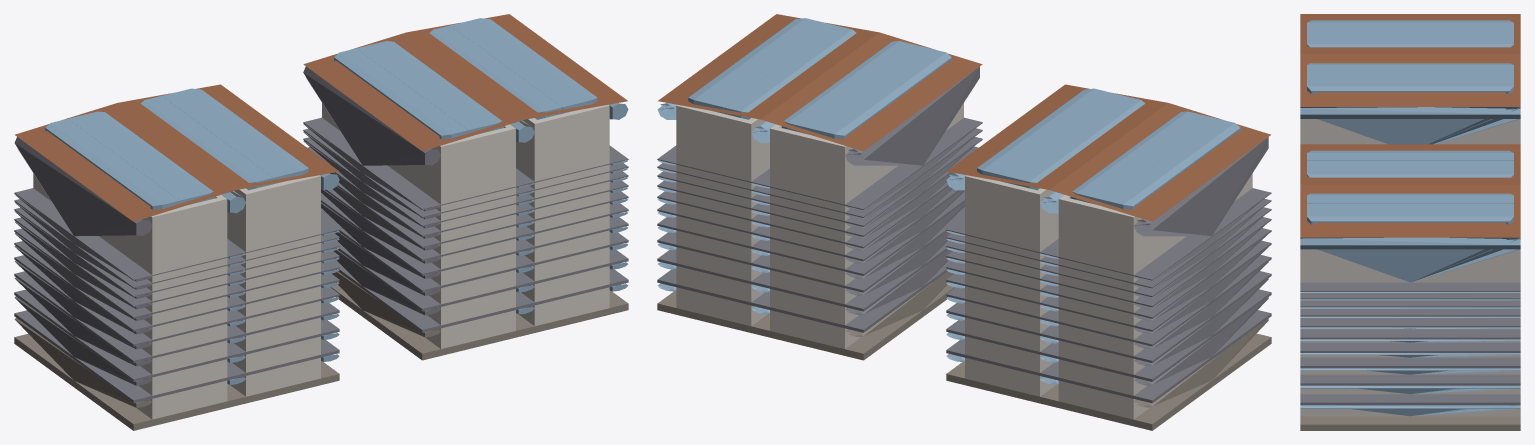
File: gin_demo_wide_colored.glb
3 renders of one model, left to right at view 1: azimuth 30°, elevation 25°; view 2: azimuth 150°, elevation 25°; view 3: azimuth 270°, elevation 25°, orthographic. The views are drawn at different scales.
Parts seen in each view (by area): view 1: world; view 2: world; view 3: world.
Part boxes in pixels (x1=…): world: x1=14, y1=14, x2=628, y2=430; world: x1=657, y1=14, x2=1271, y2=430; world: x1=1300, y1=14, x2=1520, y2=430.
Bounding box in the file's own units: 24 × 10 × 10.
